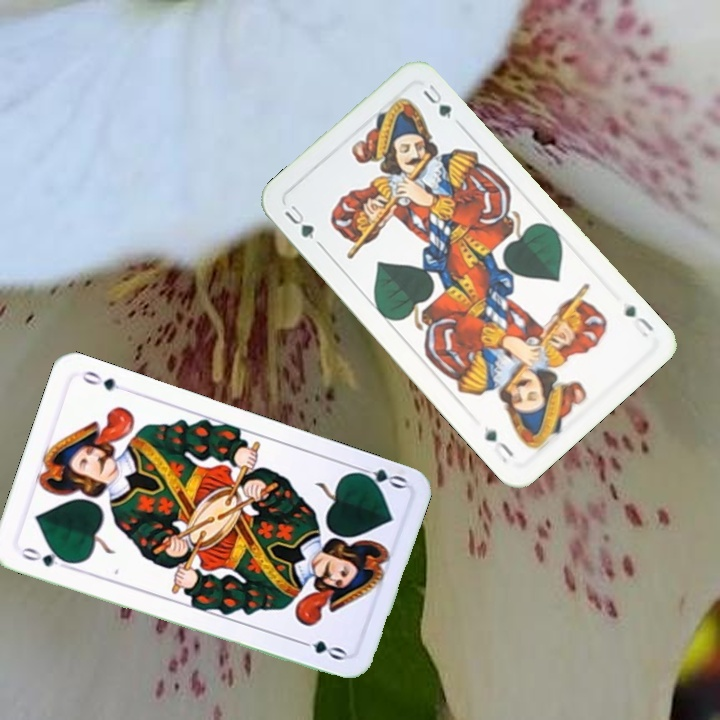GO: (349, 461, 409, 492), (17, 543, 74, 570)
GU: (280, 201, 318, 242), (620, 299, 657, 340)
